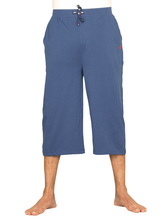clothoes: (37, 6, 130, 162)
